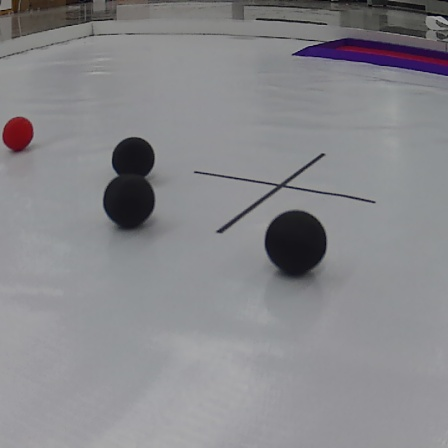black: (257, 210, 332, 273), (104, 172, 152, 227), (114, 137, 161, 179)
red: (2, 116, 34, 152)
red_aim: (301, 31, 448, 78)
